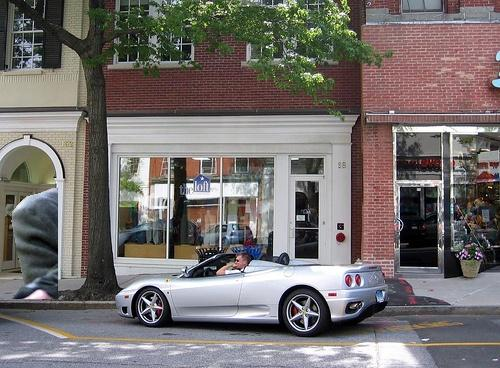tampered: (12, 189, 58, 299)
